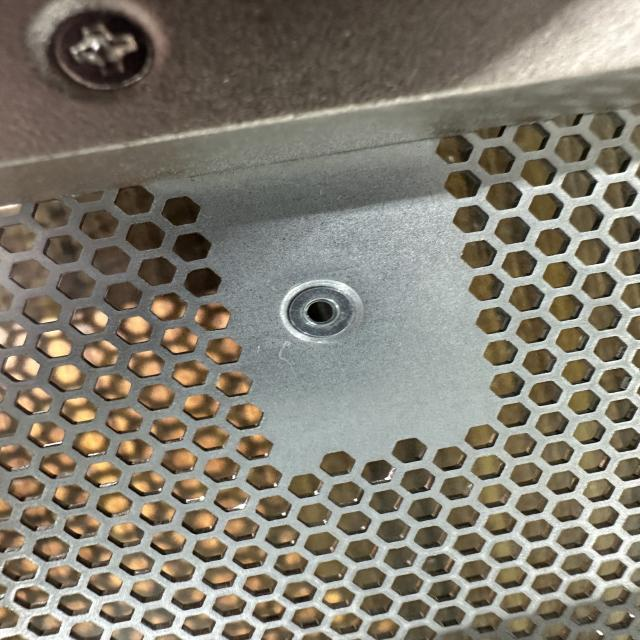Missing screw: (274, 272, 376, 350)
